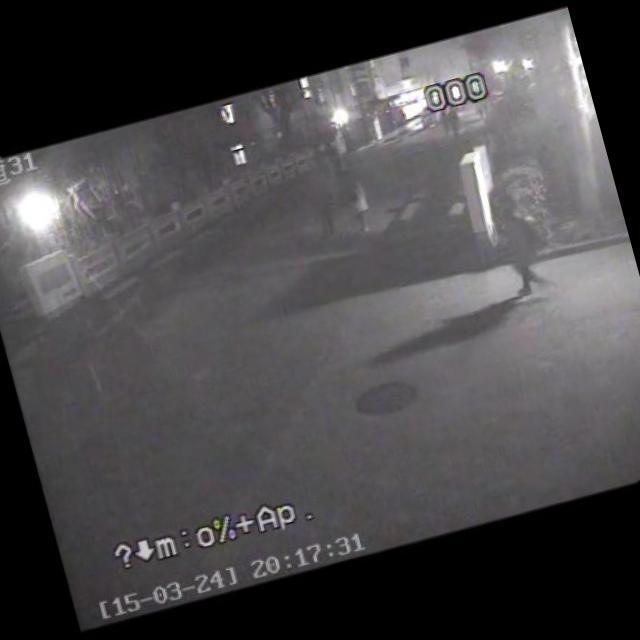person: (472, 180, 562, 306), (334, 162, 384, 244), (304, 172, 348, 241), (318, 130, 351, 175), (304, 141, 332, 181)
